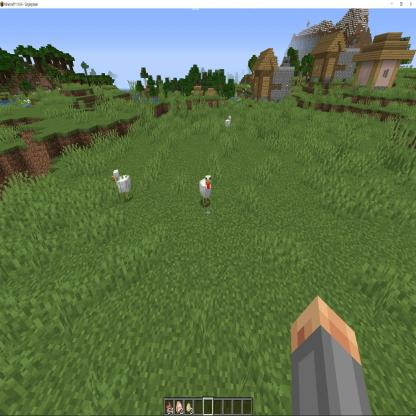minecraft-pigs: (110, 165, 133, 203), (197, 170, 212, 209), (224, 115, 232, 133)
